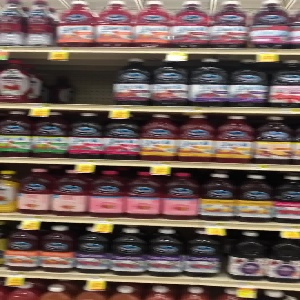void: (72, 55, 116, 105)
